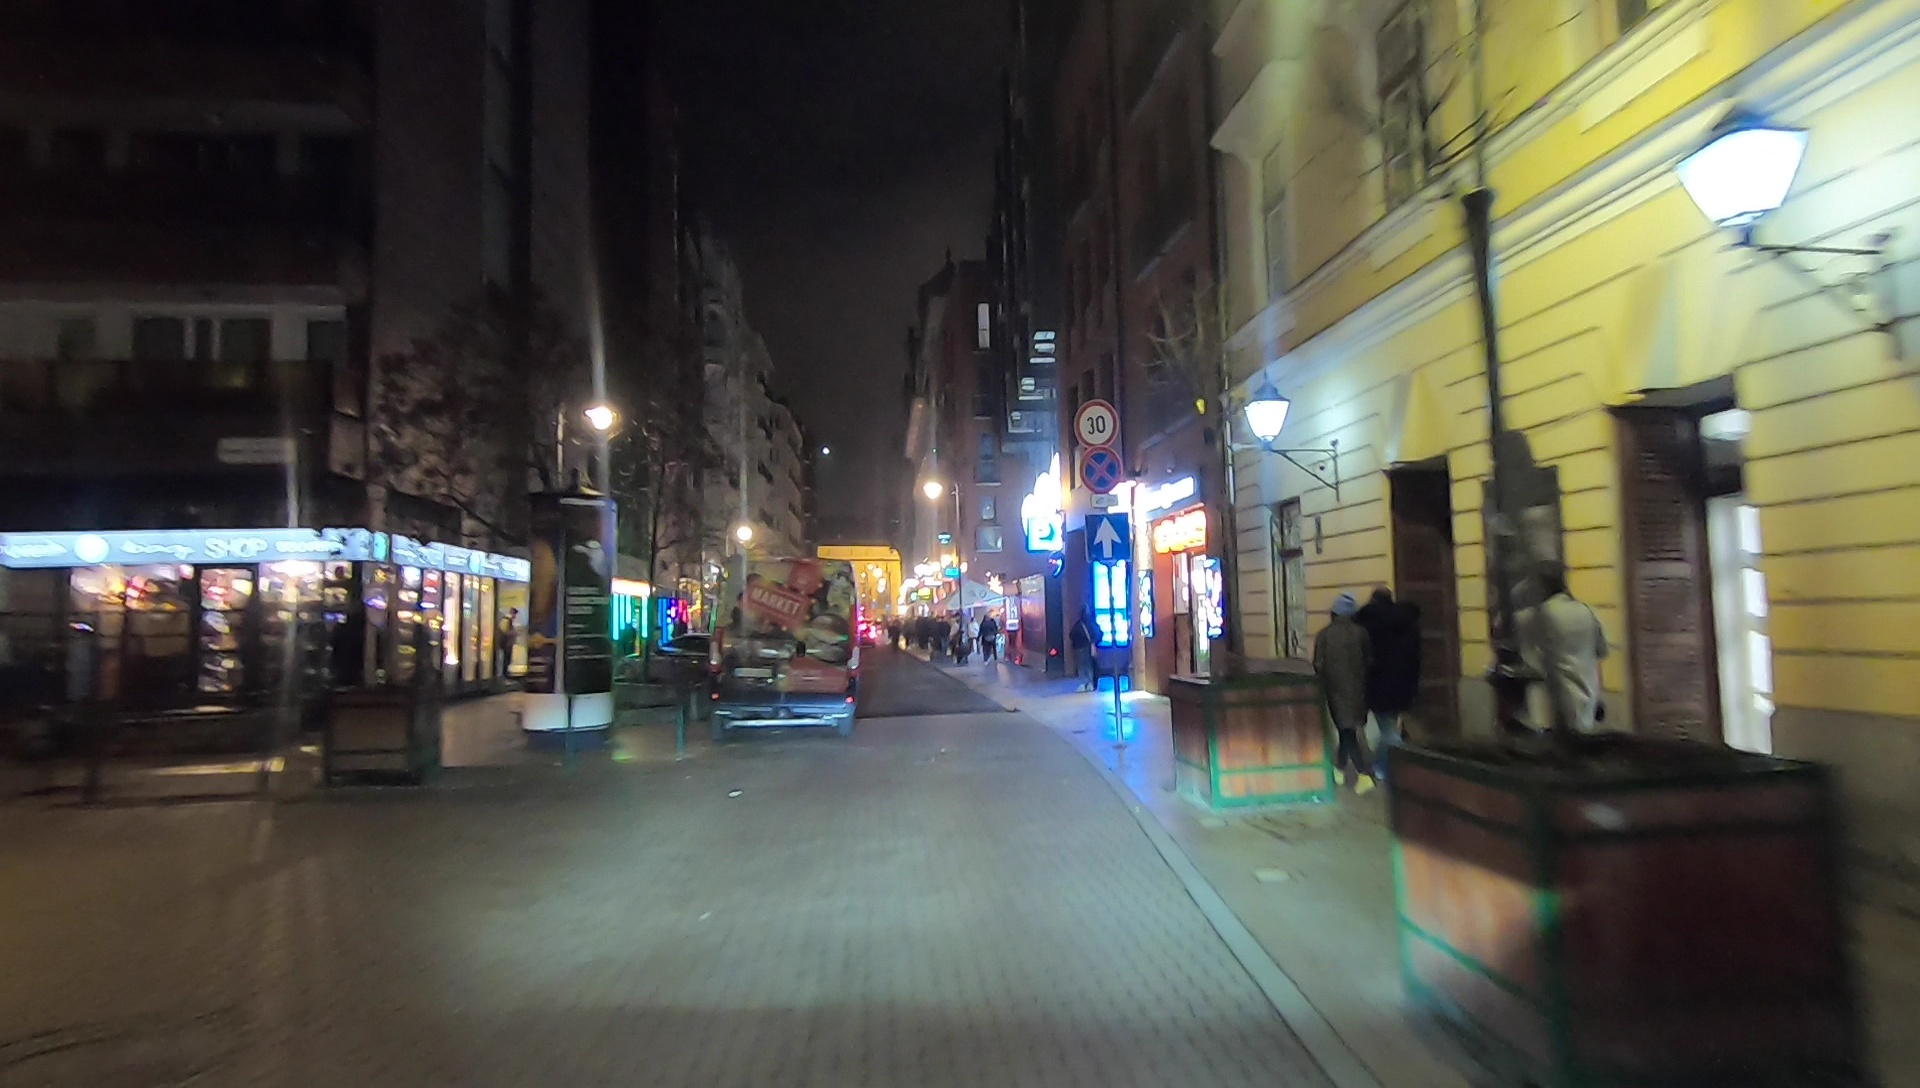person: (1519, 565, 1612, 786), (1358, 578, 1417, 769), (1315, 586, 1369, 787), (1068, 600, 1099, 685), (497, 603, 518, 670), (981, 611, 998, 657)
